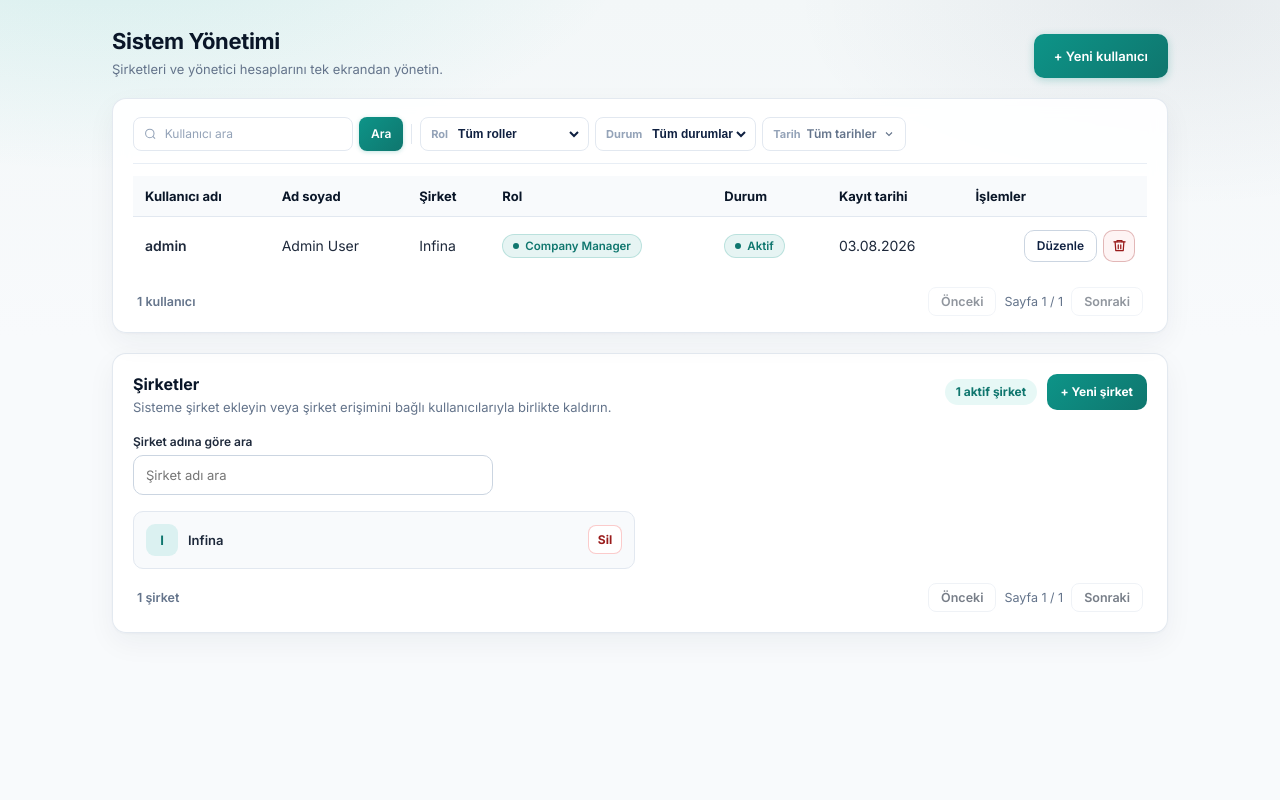
UsersPage › şirket ekler ve şirket silme onayında bağlı kullanıcı uyarısını gösterir
Click the button "+ Yeni şirket" at (1097, 392), box top-left (1047, 374), bottom-right (1147, 410)
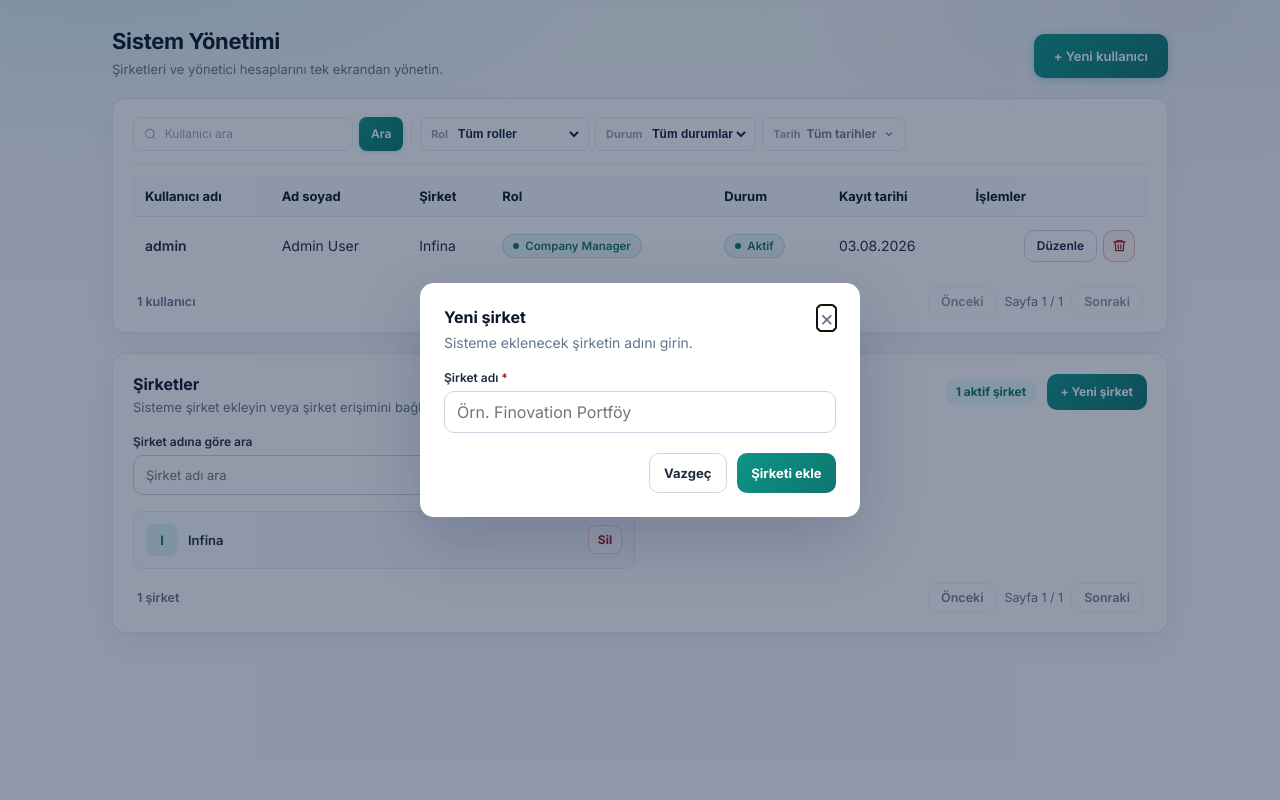
Result: the dialog shows "Yeni şirket" at top-left (444, 307), bottom-right (526, 327)
Type "Yeni Şirket" into the field labelled "Şirket adı *" at (640, 412), box top-left (444, 391), bottom-right (836, 433)
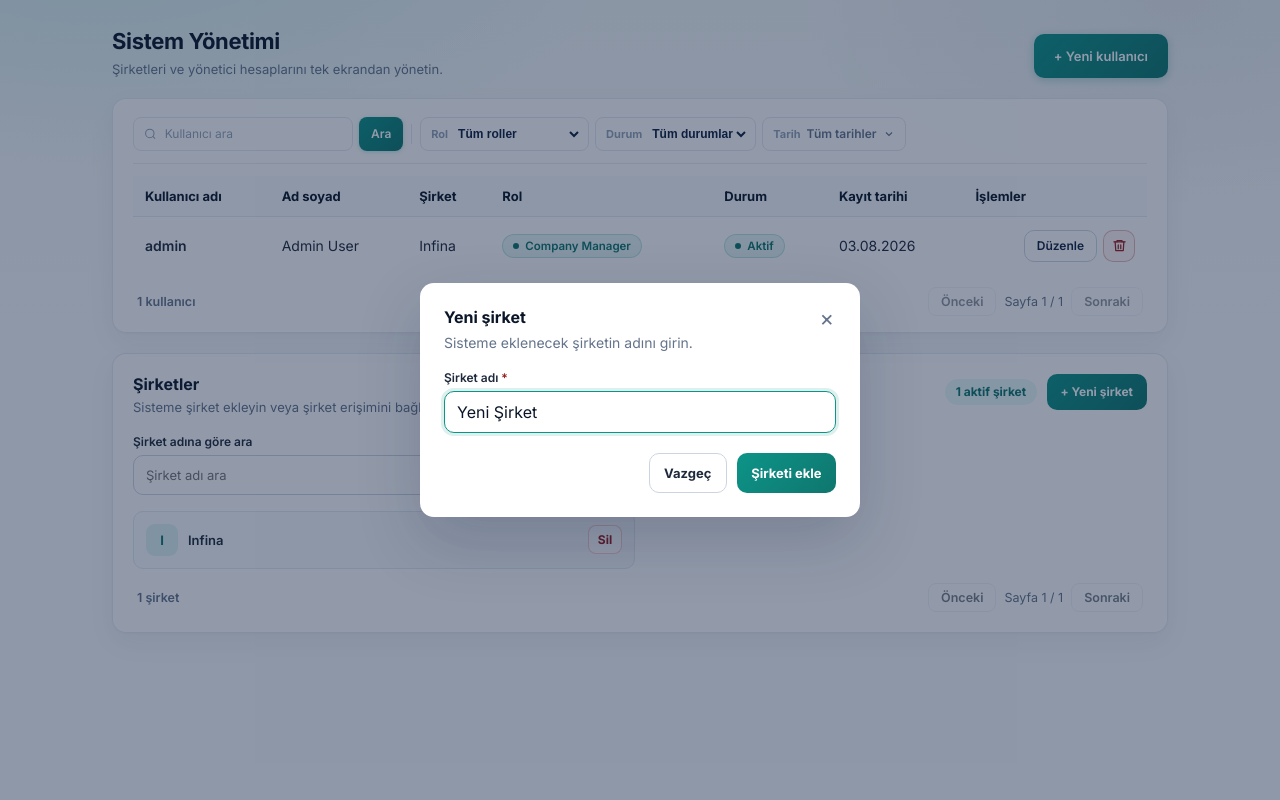
Click the button "Şirketi ekle" at (786, 473), box top-left (737, 453), bottom-right (836, 493)
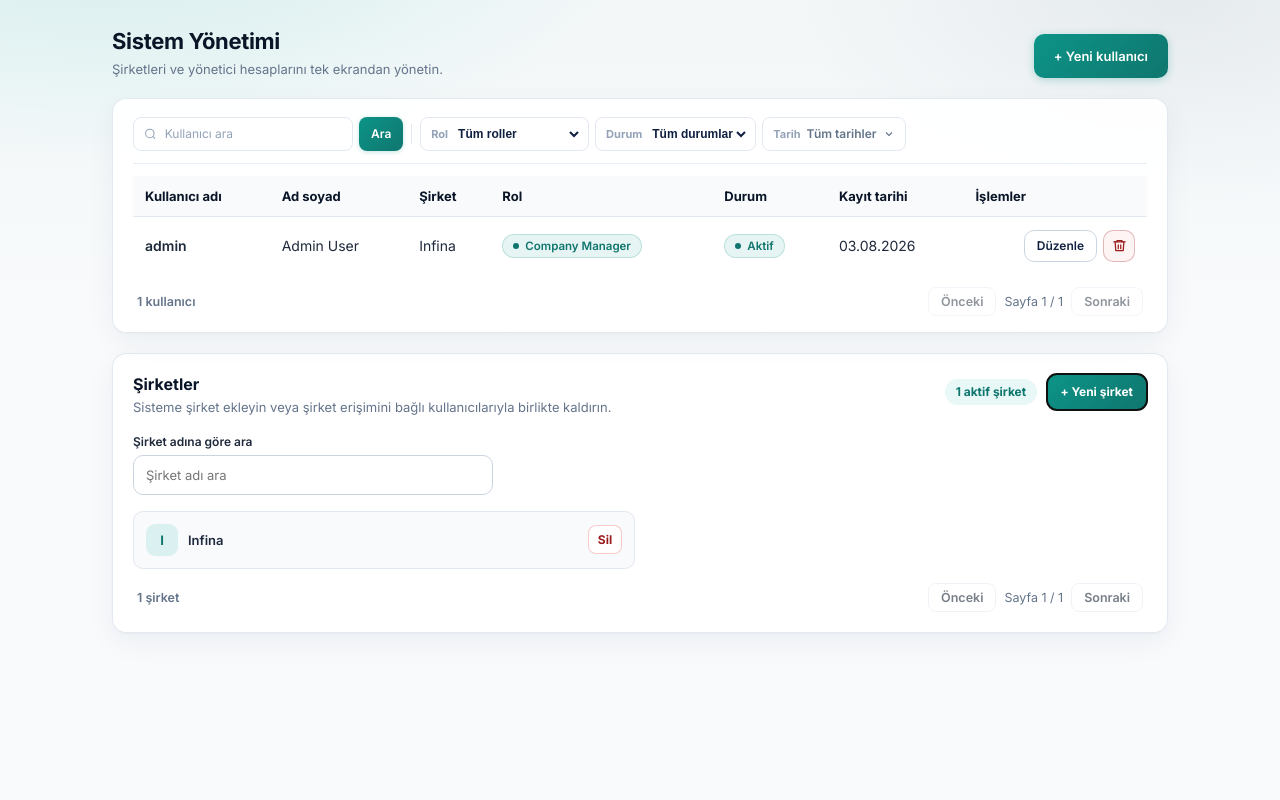
Click the button with aria-label "Infina şirketini sil" at (605, 540), box top-left (588, 526), bottom-right (622, 554)
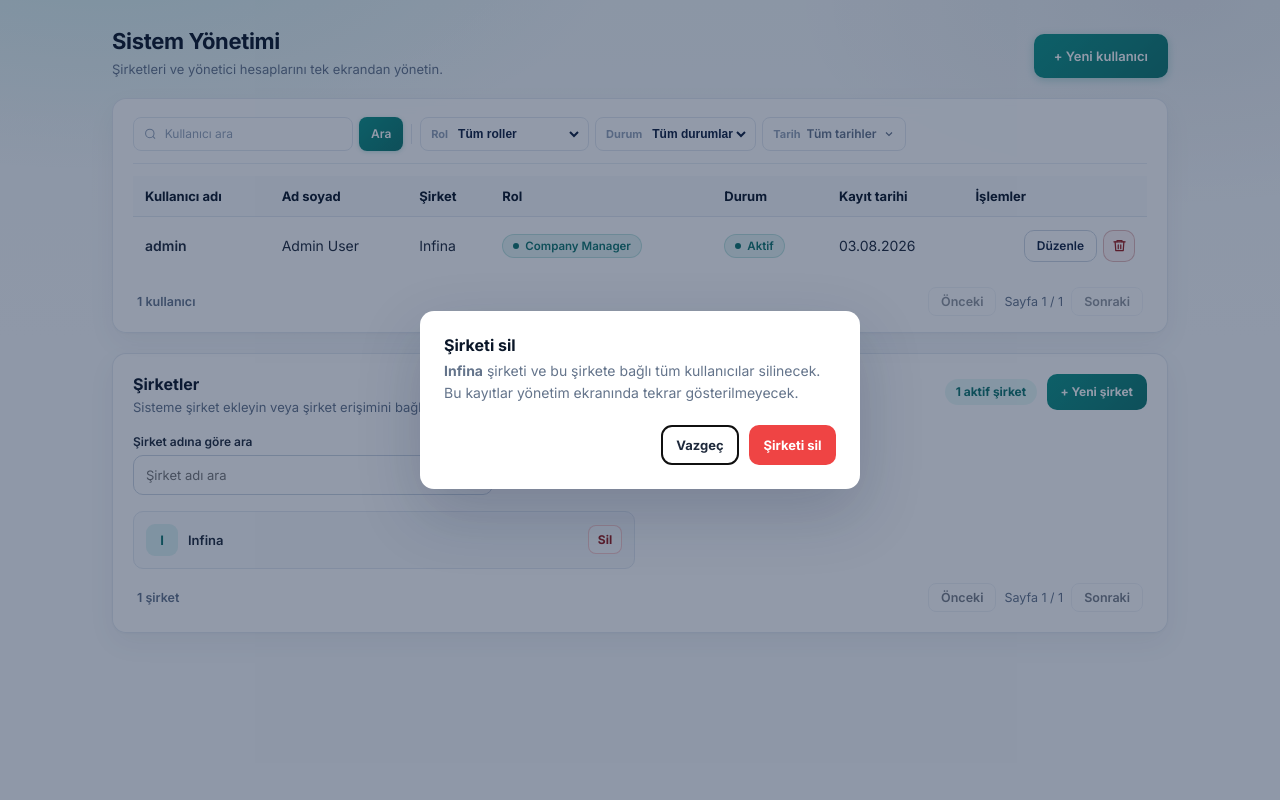
Result: the dialog shows "bu şirkete bağlı tüm kullanıcılar silinecek" at top-left (444, 362), bottom-right (820, 401)
